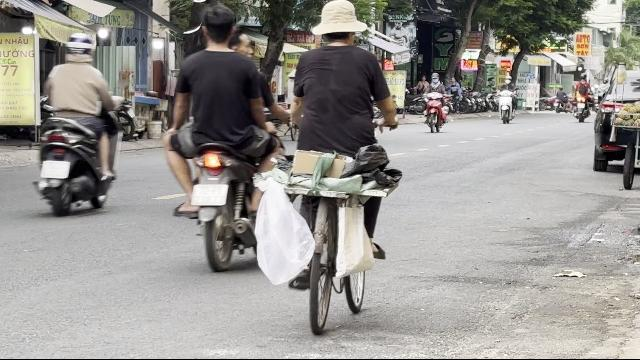helmet: (63, 33, 95, 63)
licenseplate: (191, 184, 229, 206), (40, 161, 70, 179)
motorcyclist: (161, 3, 287, 268), (33, 32, 121, 216)
nohelmet: (200, 5, 237, 47)
